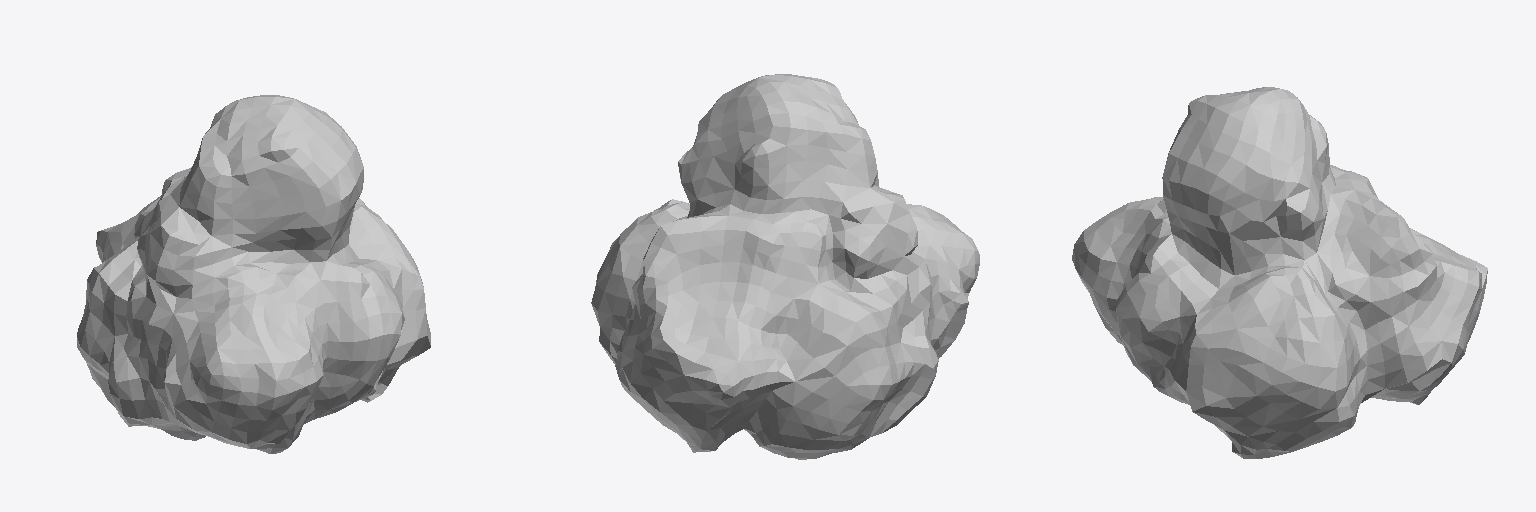
Rendered from Rock_10.obj.
3 views of the same model, side by side, from view 1: azimuth 30°, elevation 25°; view 2: azimuth 150°, elevation 25°; view 3: azimuth 270°, elevation 25° (orthographic).
Parts seen in each view (by area): view 1: Rock_10; view 2: Rock_10; view 3: Rock_10.
Boxes of the visible parts, box(x1,y1,x2,y2) form: Rock_10: box(77, 95, 430, 453); Rock_10: box(591, 74, 979, 459); Rock_10: box(1072, 87, 1487, 458).
Bounding box in the file's own units: 5.21 × 5.22 × 5.99.